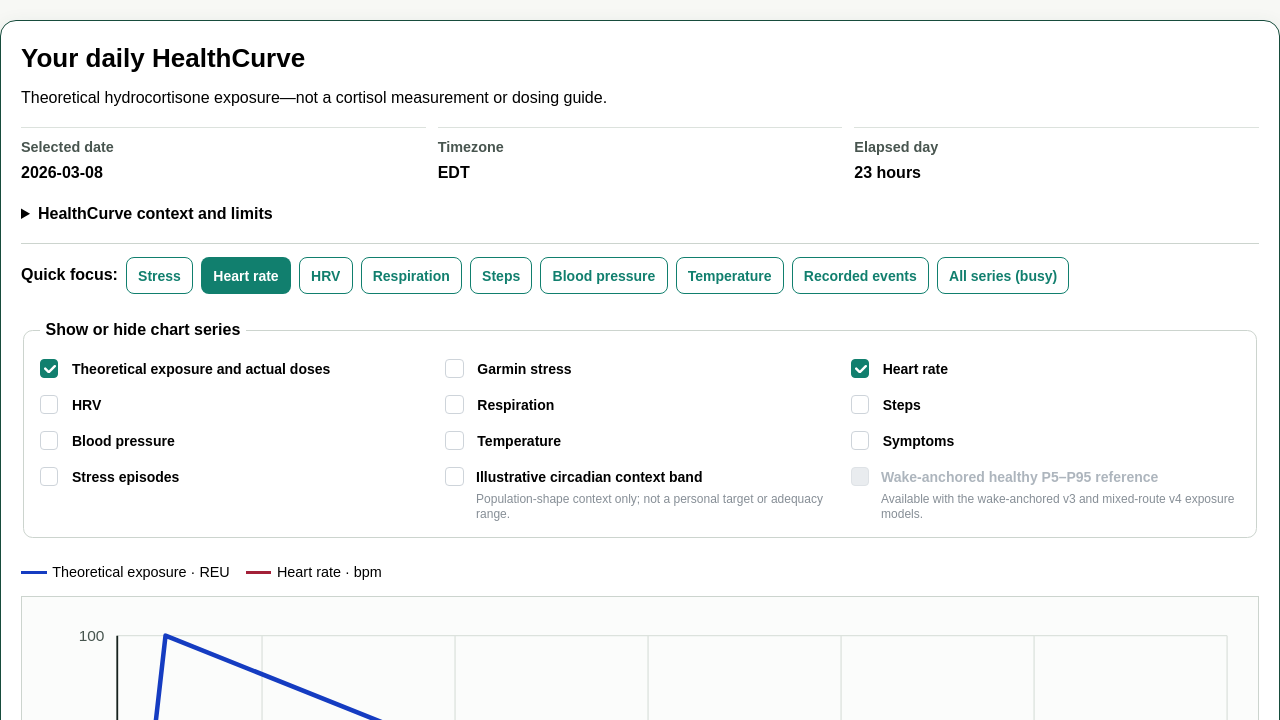
Test case: Daily HealthCurve › draws pre-midnight sleep-session heart rate and still breaks real cadence gaps
The width and height of the screenshot is (1280, 720).
Click the button "Heart rate" at (246, 276), box [201,257,291,294]
(page scrolled)
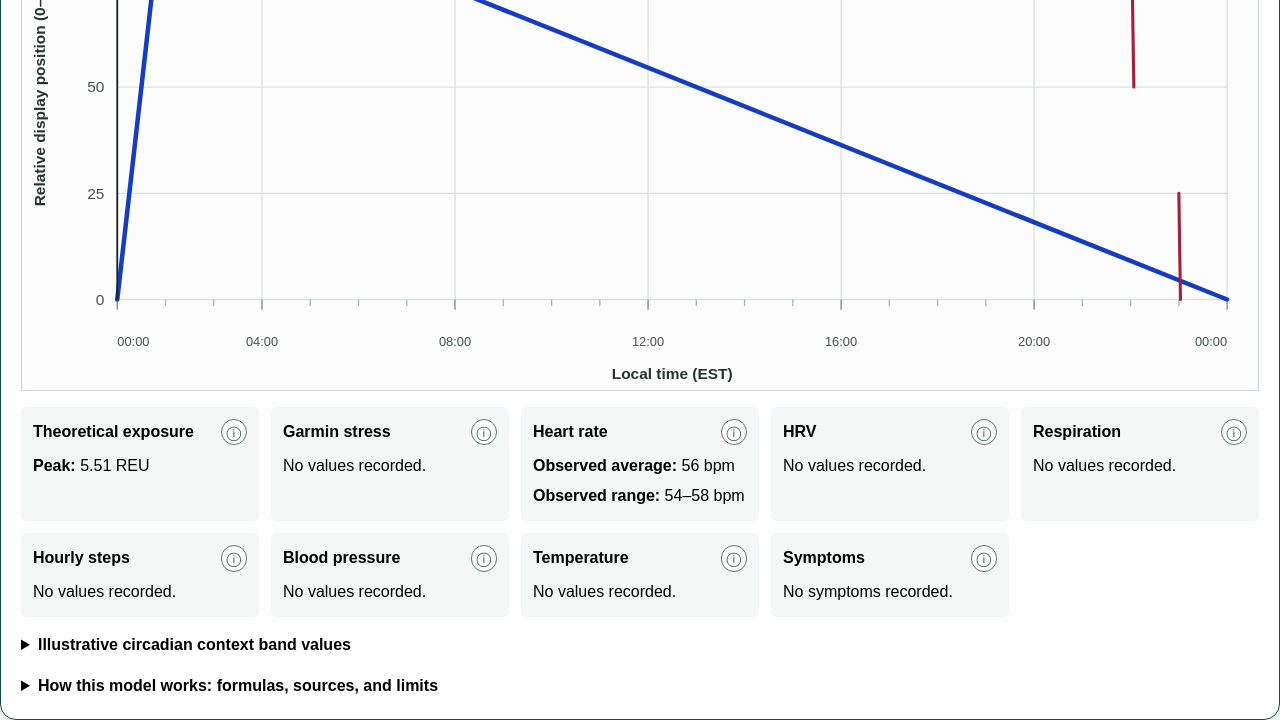
Focus the button named "About Heart rate data" at (734, 432), box [721,419,747,445]
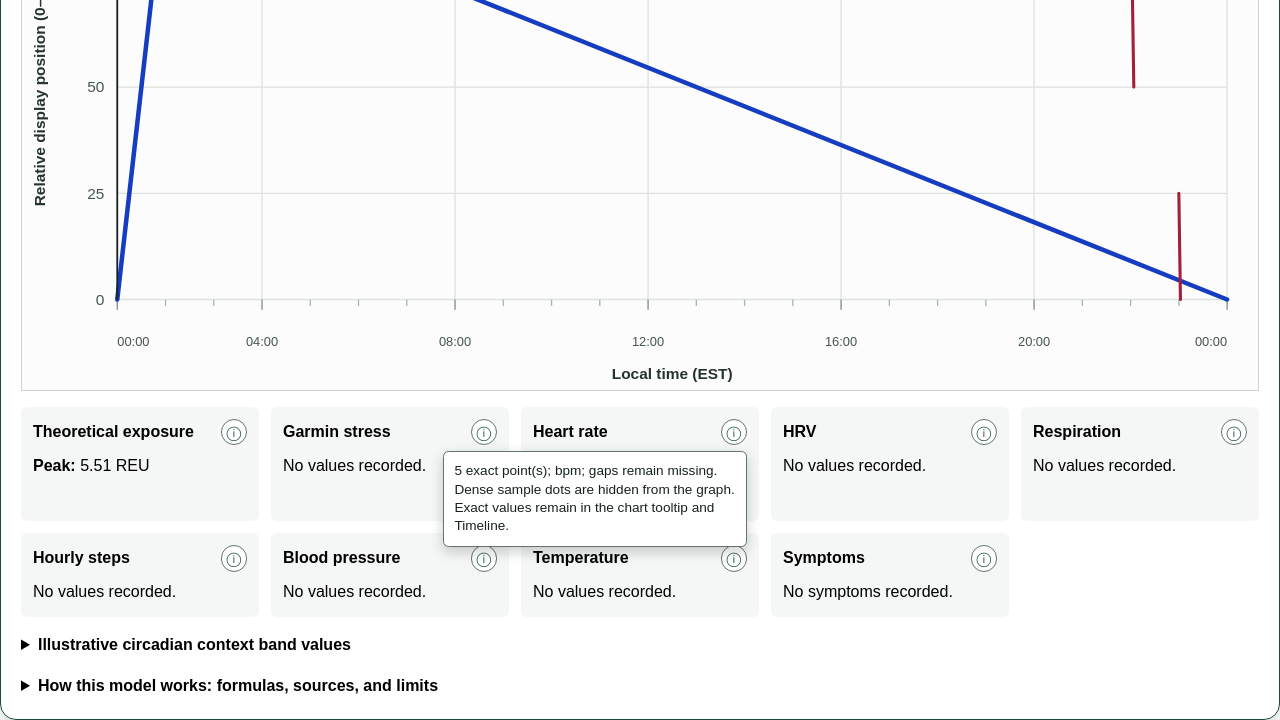
Expected: the tooltip shows "5 exact point(s)", [454,463,735,533]
